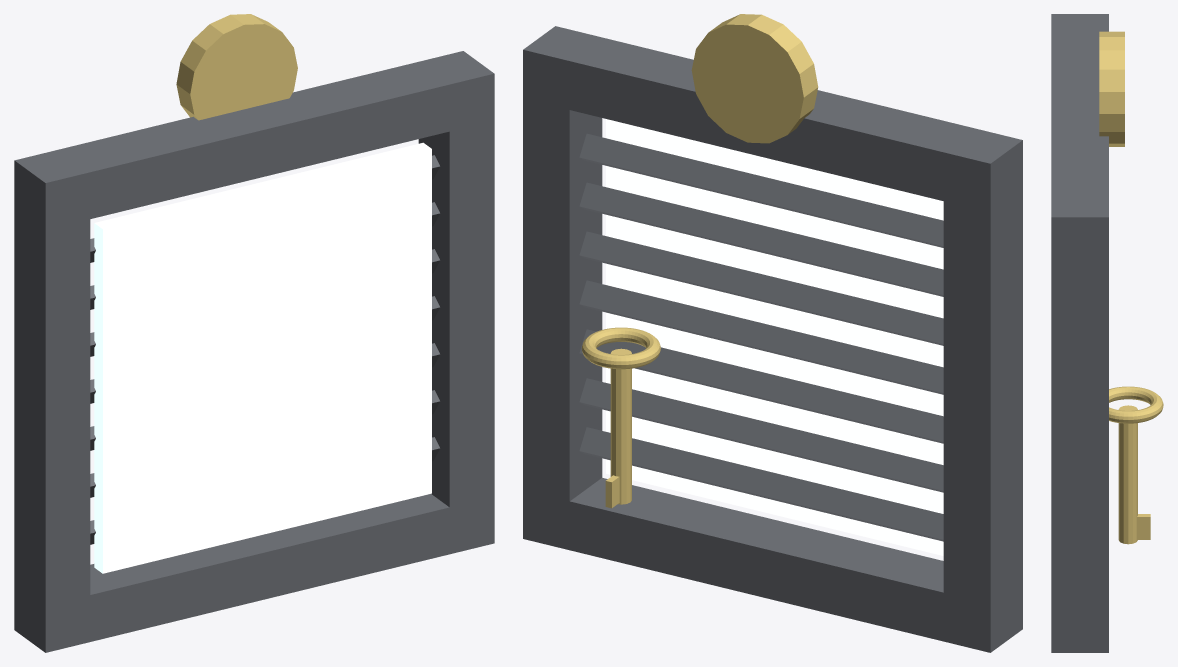
File: vent_grate.glb
3 renders of one model, left to right at view 1: azimuth 30°, elevation 25°; view 2: azimuth 150°, elevation 25°; view 3: azimuth 270°, elevation 25°, orthographic. The views are drawn at different scales.
Visible parts, largest first — view 1: Cube.008, Cube, Cylinder; view 2: Cube, Cube.008, Cylinder, Cube.004, Cube.007, Cube.005, Cube.006, Cube.002, Cube.001, Cube.003, VentKey, Torus; view 3: Cube, Cylinder, VentKey, Torus, Cube.009.
Part boxes in pixels (bbox=[...]): Cube.008: bbox=[94, 142, 431, 573]; Cube: bbox=[14, 51, 494, 652]; Cylinder: bbox=[176, 14, 297, 120]; Cube: bbox=[523, 26, 1022, 652]; Cube.008: bbox=[606, 119, 943, 555]; Cylinder: bbox=[691, 14, 818, 143]; Cube.004: bbox=[579, 280, 943, 394]; Cube.007: bbox=[579, 133, 943, 247]; Cube.005: bbox=[579, 231, 943, 345]; Cube.006: bbox=[579, 182, 943, 296]; Cube.002: bbox=[579, 378, 943, 492]; Cube.001: bbox=[579, 427, 943, 541]; Cube.003: bbox=[579, 329, 943, 443]; VentKey: bbox=[610, 348, 631, 504]; Torus: bbox=[581, 327, 660, 369]; Cube: bbox=[1051, 14, 1108, 652]; Cylinder: bbox=[1099, 31, 1124, 146]; VentKey: bbox=[1118, 405, 1137, 544]; Torus: bbox=[1109, 386, 1163, 423]; Cube.009: bbox=[1137, 514, 1150, 539].
Size of the model in its own units: 1.5 by 1.77 by 0.35.
